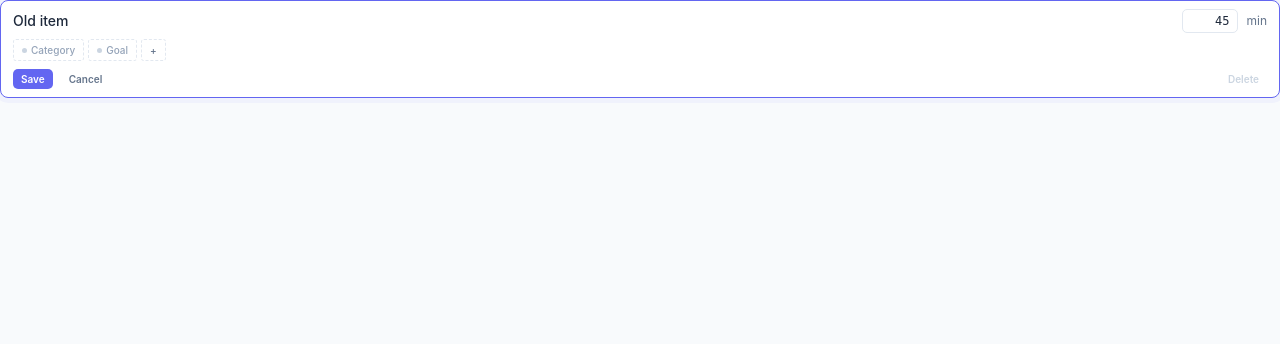
Test: EntryRowEdit › opens DimensionPopover when + button is clicked
Click the text with test id "add-dimension": (153, 50) [141,39,166,61]
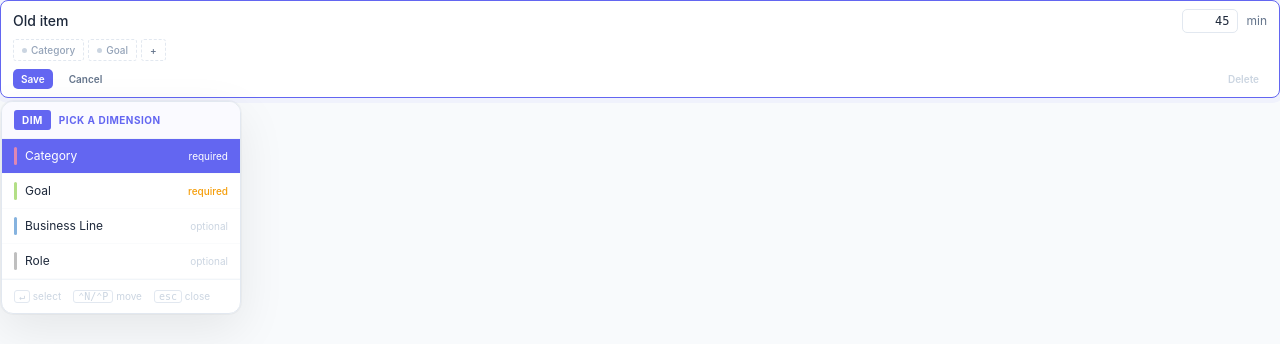
Now the element that starts with "DIM" is shown, box [1,101,241,314]
